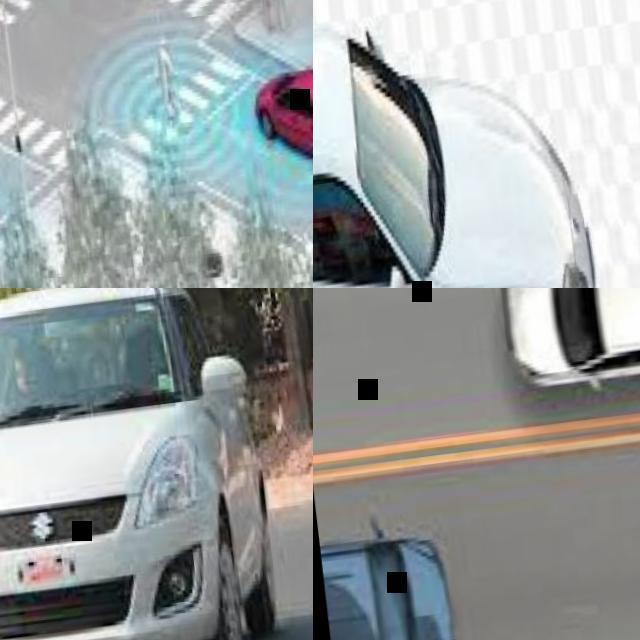car: (1, 279, 272, 639)
